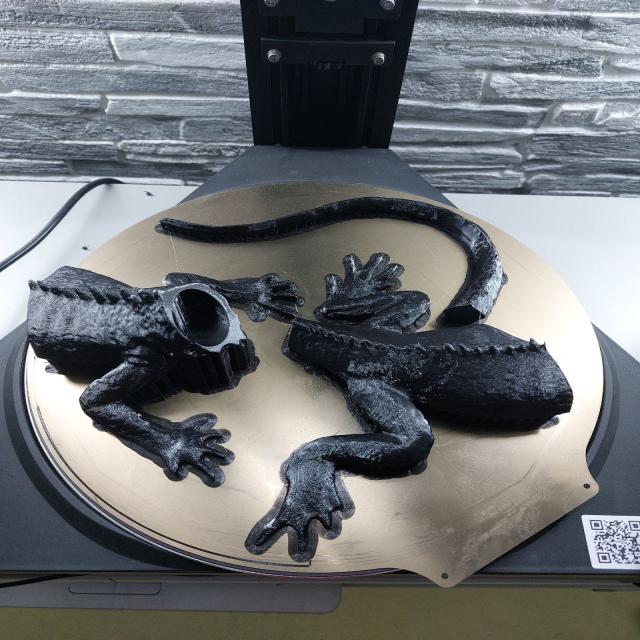Without deffect: (31, 185, 634, 567)
